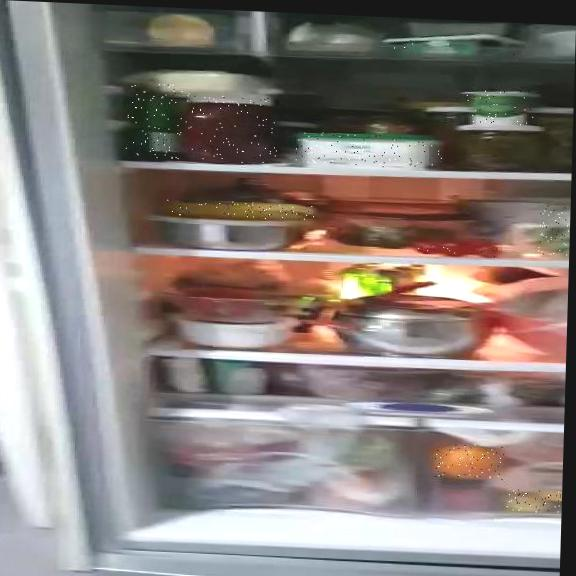banana: (166, 199, 316, 221)
cheese: (296, 131, 442, 170)
cream cheese: (390, 31, 517, 56)
lemon: (507, 489, 562, 513)
lettuce: (535, 204, 571, 256)
mineral water: (126, 83, 183, 159)
orange: (434, 443, 505, 480)
tomato: (409, 235, 500, 257)
tomato paste: (184, 94, 278, 164)
yoghurt: (462, 89, 536, 126)
